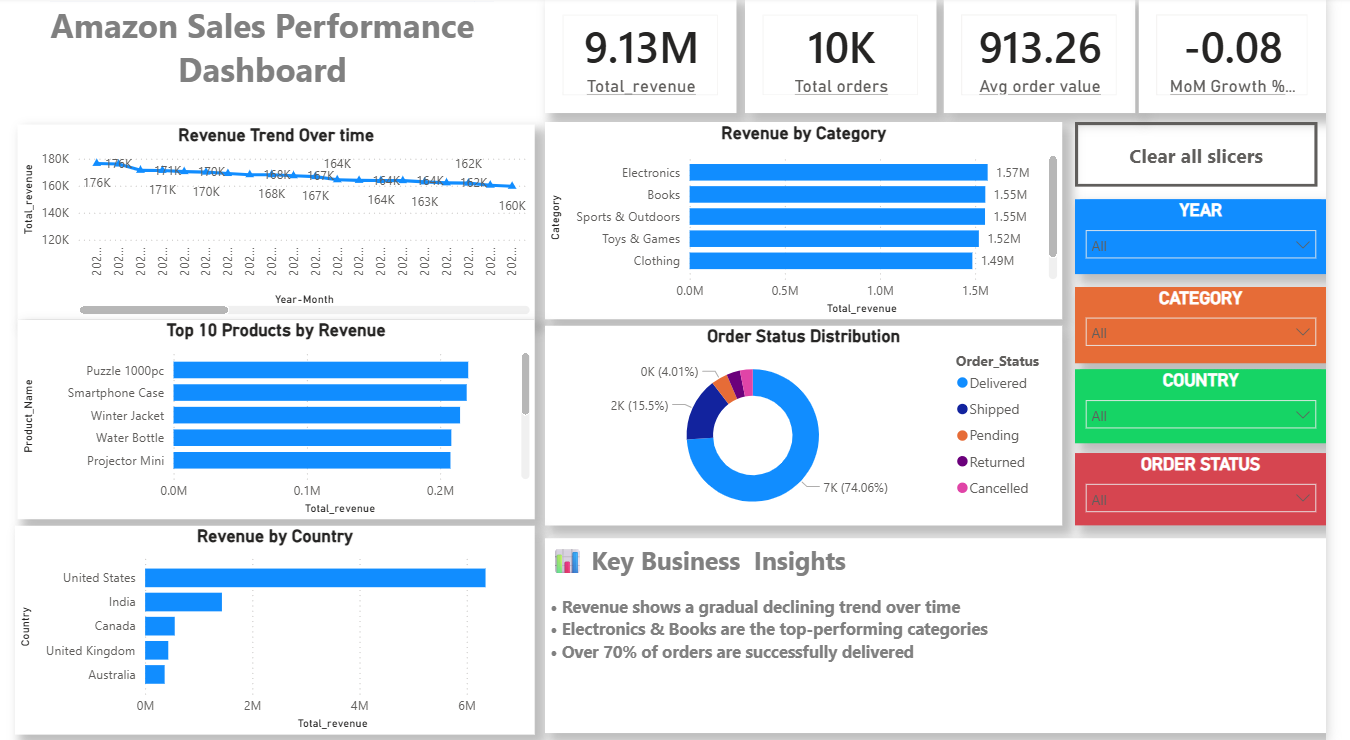

The dashboard page shown, as its layout file describes it:
{"tool":"powerbi","page":{"name":"Sales Overview","canvas":[1280,720],"ordinal":0},"visuals":[{"type":"cardVisual","fields":{"Data":["calculations (3).Total_revenue"]},"box":[526,0,184.6,112.2],"z":0},{"type":"cardVisual","fields":{"Data":["calculations (3).Total orders"]},"box":[718.4,0,184.6,112.2],"z":1000},{"type":"cardVisual","fields":{"Data":["calculations (3).Avg order value"]},"box":[910.9,0,184.6,112.2],"z":2000},{"type":"cardVisual","fields":{"Data":["calculations (3).MoM Growth % (Final)"]},"box":[1099.1,0,181,112.2],"z":3000},{"type":"lineChart","title":"Revenue Trend Over time","fields":{"Category":["Date Table.Year-Month"],"Y":["calculations (3).Total_revenue"]},"box":[16.9,123.1,499.5,188.2],"z":4000},{"type":"clusteredBarChart","title":"Revenue by Category","fields":{"Category":["amazon clean csv_.Category"],"Y":["calculations (3).Total_revenue"]},"box":[526,120.6,499.5,190.6],"z":5000},{"type":"barChart","title":"Top 10 Products  by Revenue","fields":{"Category":["amazon clean csv_.Product_Name"],"Y":["calculations (3).Total_revenue"]},"box":[16.9,311.3,499.5,193],"z":6000},{"type":"donutChart","title":" Order Status Distribution","fields":{"Category":["amazon clean csv_.Order_Status"],"Y":["calculations (3).Total orders"]},"box":[526,317.3,499.5,193],"z":7000},{"type":"barChart","title":"Revenue by Country","fields":{"Y":["calculations (3).Total_revenue"],"Category":["amazon clean csv_.Country"]},"box":[14.5,510.3,501.9,201.5],"z":8000},{"type":"slicer","title":"YEAR","fields":{"Values":["Date Table.Year"]},"box":[1037.5,195.4,242.5,72.4],"z":9000},{"type":"slicer","title":"CATEGORY","fields":{"Values":["amazon clean csv_.Category"]},"box":[1037.5,279.9,242.5,73.6],"z":10000},{"type":"slicer","title":"COUNTRY","fields":{"Values":["amazon clean csv_.Country"]},"box":[1037.5,359.5,242.5,71.2],"z":11000},{"type":"slicer","title":"ORDER STATUS","fields":{"Values":["amazon clean csv_.Order_Status"]},"box":[1037.5,440.4,242.5,70],"z":12000},{"type":"textbox","box":[526,522.4,754,188.2],"z":12001},{"type":"textbox","box":[0,0,506.7,112.2],"z":12002},{"type":"actionButton","box":[1037.5,120.6,234,62.7],"z":12003}]}

Visuals, with their boxes in screenshot pixels (x1, y1, x2, y2), scaled from the page's 1280x720 canvas onto the 1350x740 screenshot:
cardVisual - calculations (3).Total_revenue: detection(555, 0, 749, 115)
cardVisual - calculations (3).Total orders: detection(758, 0, 952, 115)
cardVisual - calculations (3).Avg order value: detection(961, 0, 1155, 115)
cardVisual - calculations (3).MoM Growth % (Final): detection(1159, 0, 1349, 115)
"Revenue Trend Over time" lineChart: detection(18, 127, 545, 320)
"Revenue by Category" clusteredBarChart: detection(555, 124, 1082, 320)
"Top 10 Products  by Revenue" barChart: detection(18, 320, 545, 518)
" Order Status Distribution" donutChart: detection(555, 326, 1082, 524)
"Revenue by Country" barChart: detection(15, 524, 545, 732)
"YEAR" slicer: detection(1094, 201, 1349, 275)
"CATEGORY" slicer: detection(1094, 288, 1349, 363)
"COUNTRY" slicer: detection(1094, 369, 1349, 443)
"ORDER STATUS" slicer: detection(1094, 453, 1349, 525)
textbox: detection(555, 537, 1349, 730)
textbox: detection(0, 0, 534, 115)
actionButton: detection(1094, 124, 1341, 188)
